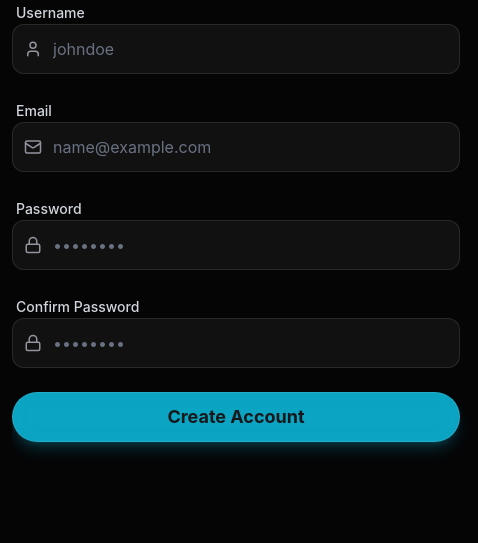
Test: RegisterForm › shows error when passwords do not match
Type "password123" into the password field labelled "Password".
click(236, 245); type("password123")  # box [12,220,460,270]
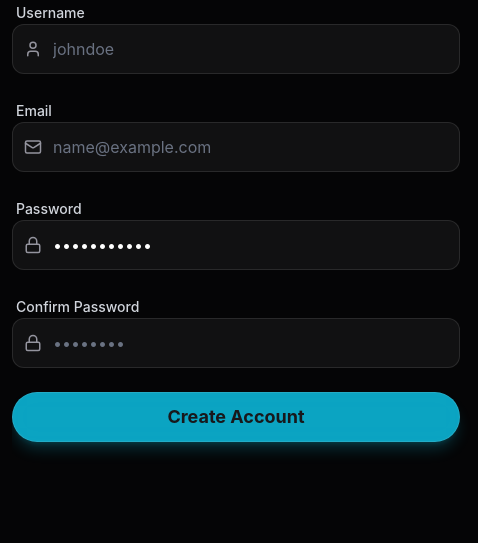
Type "mismatch" into the password field labelled "Confirm Password".
click(236, 343); type("mismatch")  # box [12,318,460,368]
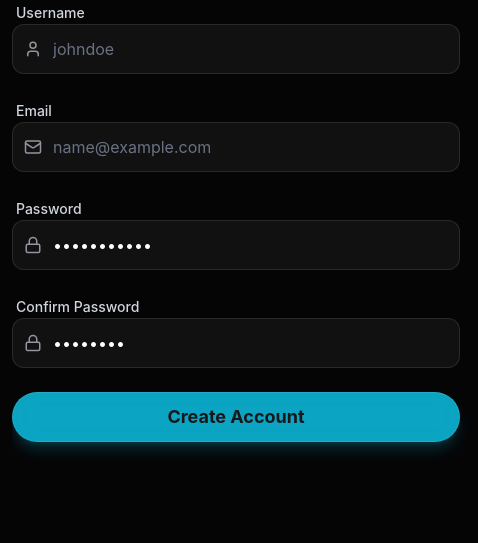
Click the button "Create Account".
click(236, 417)  # box [12,392,460,442]
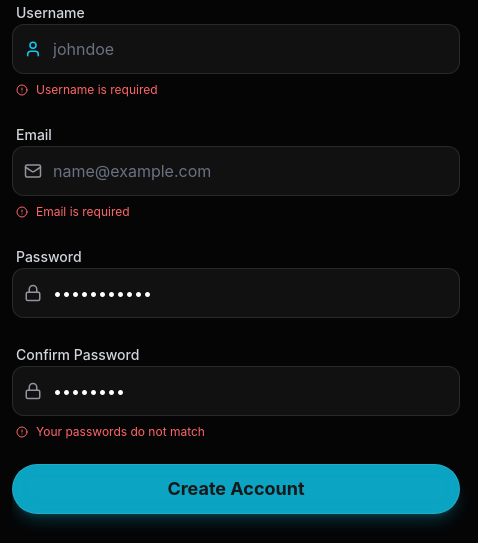
Check: the text "Your passwords do not match" is shown, box [36,424,205,440]
